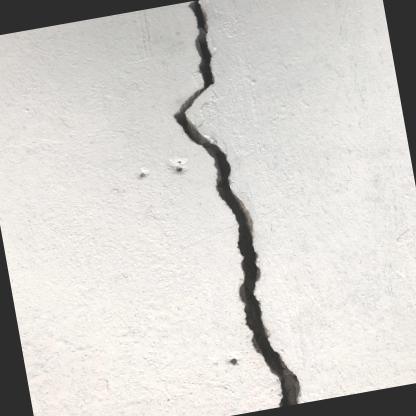crack: (172, 0, 300, 407)
